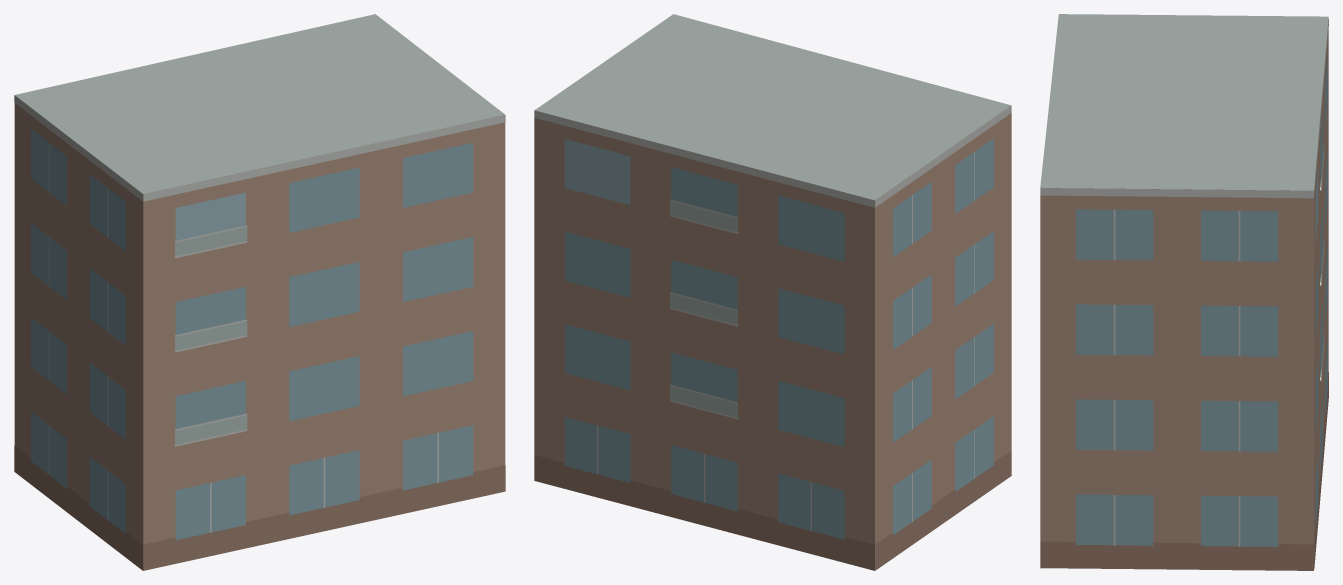
File: survey-upis-32654210.glb
The picture shows the model from 3 angles, left to right: view 1: azimuth 30°, elevation 25°; view 2: azimuth 150°, elevation 25°; view 3: azimuth 270°, elevation 25°; orthographic projection. The views are drawn at different scales.
Parts seen in each view (by area): view 1: survey-upis-32654210.tmp; view 2: survey-upis-32654210.tmp; view 3: survey-upis-32654210.tmp.
Boxes of the visible parts, x1=… form: survey-upis-32654210.tmp: x1=14, y1=14, x2=505, y2=570; survey-upis-32654210.tmp: x1=534, y1=14, x2=1011, y2=570; survey-upis-32654210.tmp: x1=1040, y1=14, x2=1328, y2=570.
Bounding box in the file's own units: 12.17 × 12.2 × 8.41.
